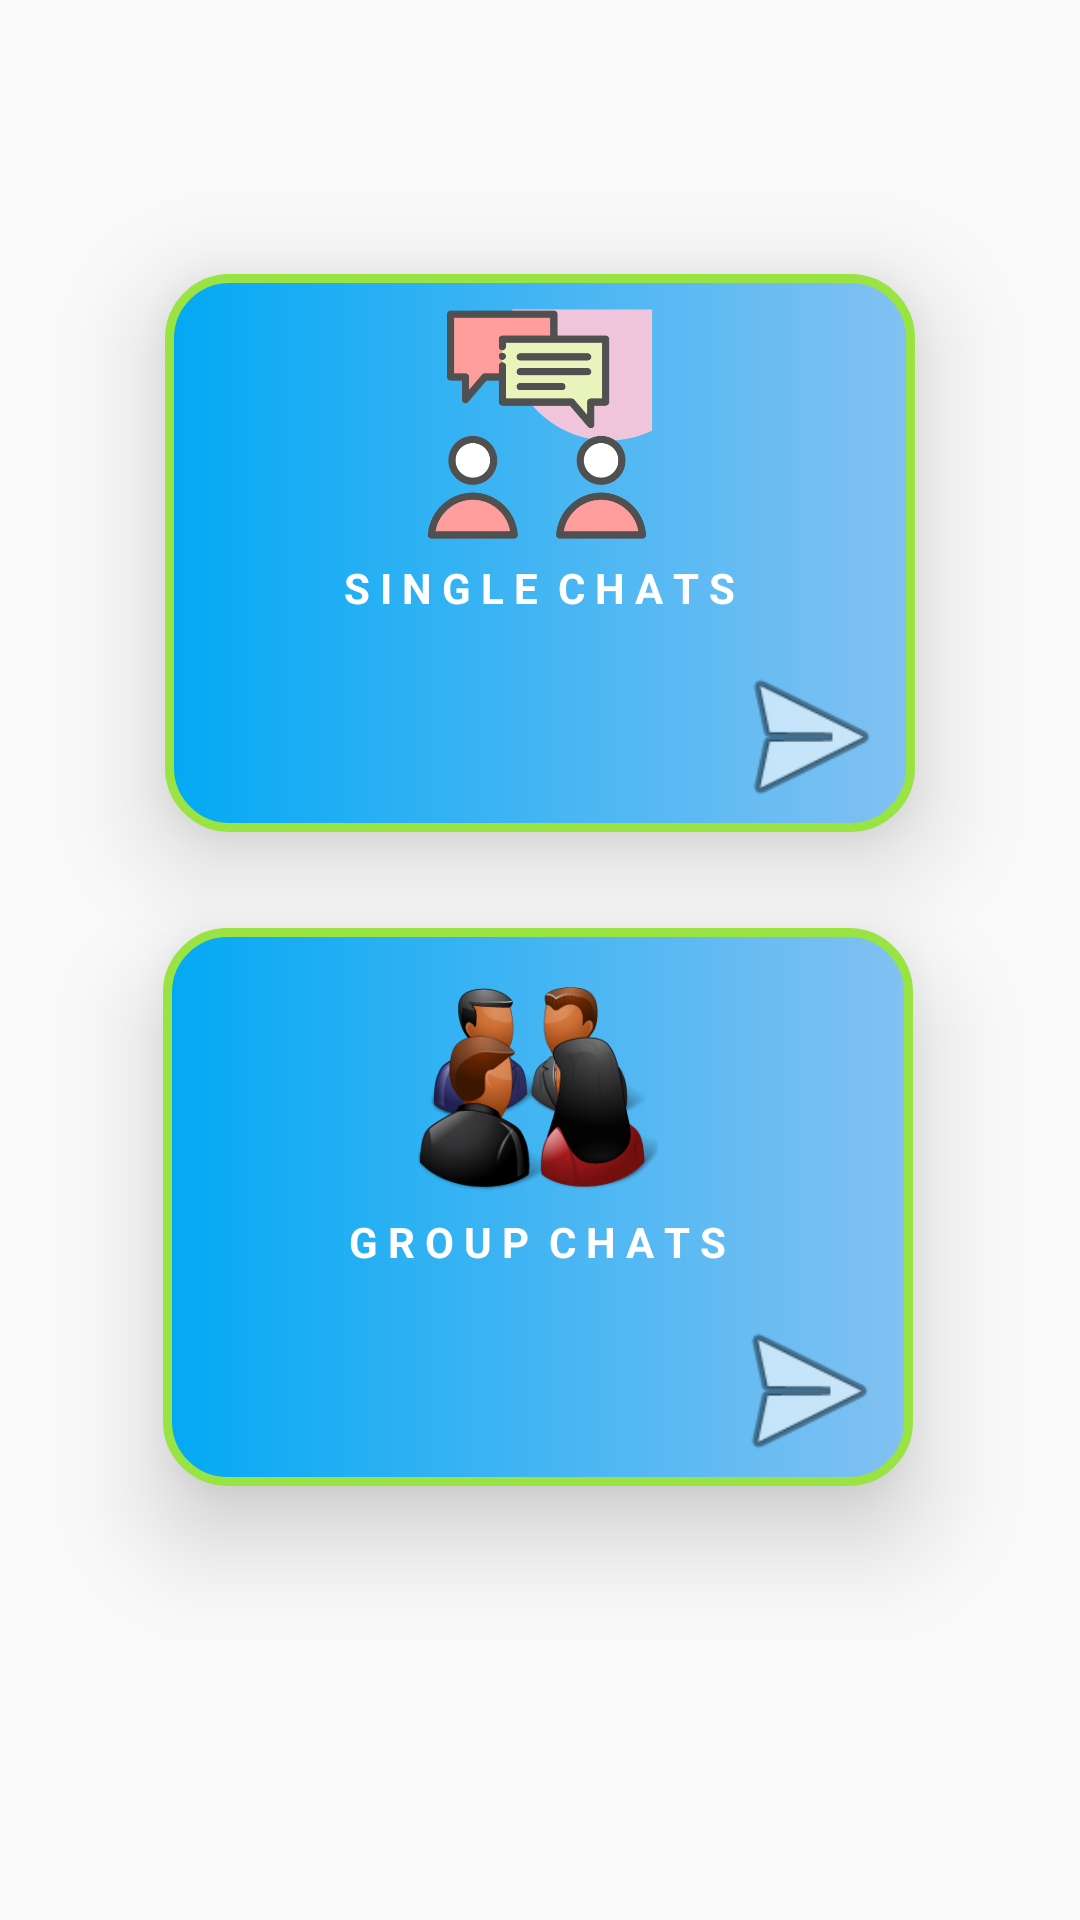

Where to tap for icons on this 1080px x 1920px app screen, as (x,y):
send: (810,736), (808,1390)
